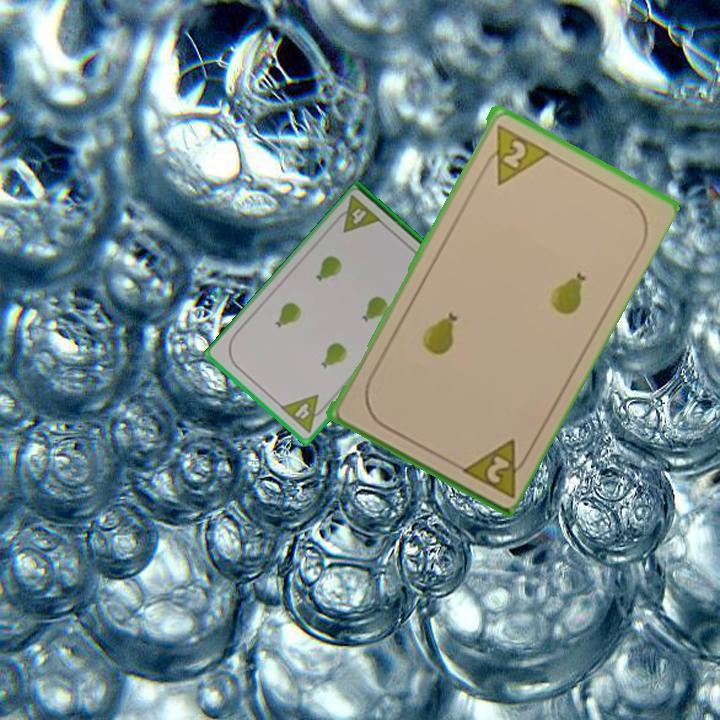2p: (455, 434, 535, 500), (478, 120, 550, 188)
4p: (277, 391, 331, 436), (330, 192, 385, 236)
